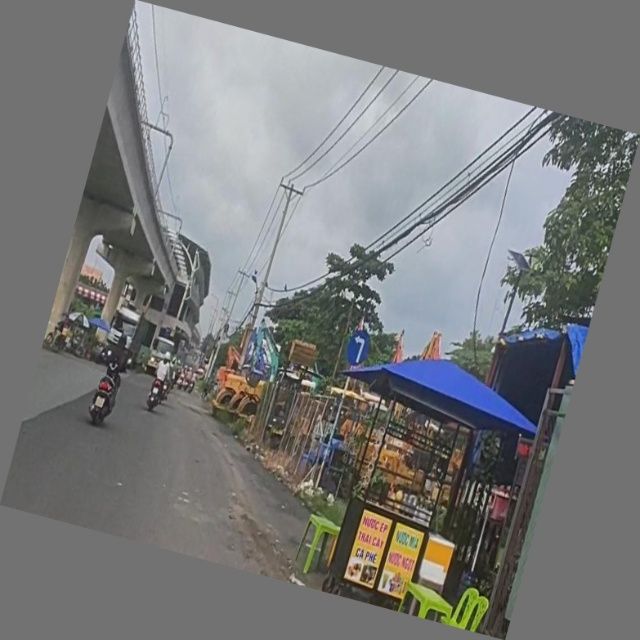R.301e: (342, 328, 373, 371)
